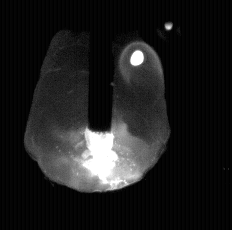arame: (89, 0, 114, 133)
poca: (23, 0, 169, 230)
